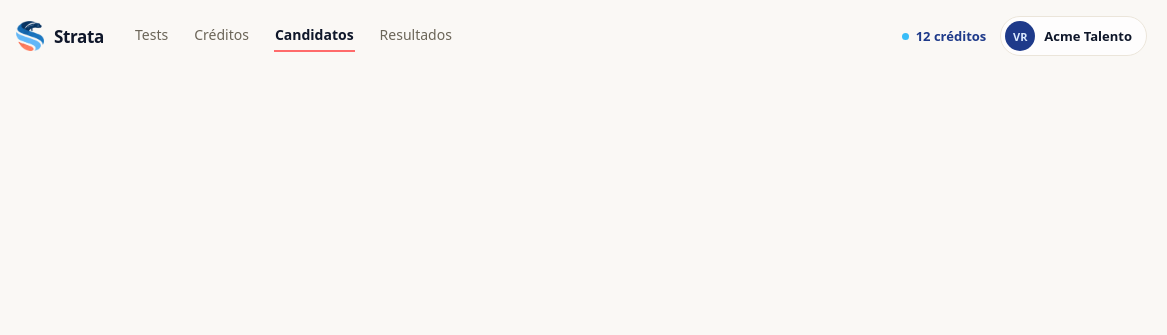
Test: BarraRh › menú: Mi perfil, Sitio público y Salir; sin is_platform_admin no aparece Operación
Click the button named "menú de cuenta": (1074, 36) [1000, 16, 1147, 56]
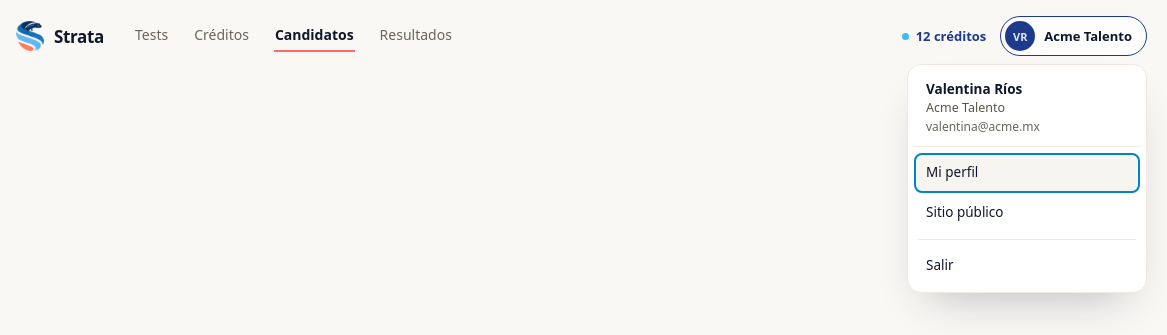
Expected: the menu items read "Mi perfil", "Sitio público", "Salir", in this order, [914, 153, 1140, 193]; [926, 203, 1004, 221]; [914, 246, 1140, 286]
